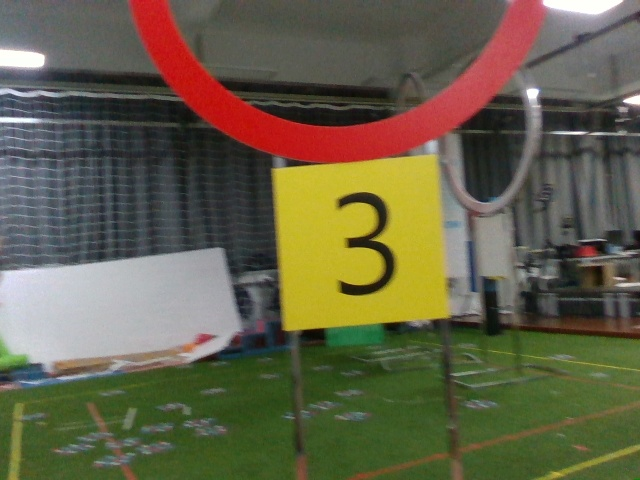target: (280, 168, 432, 311)
